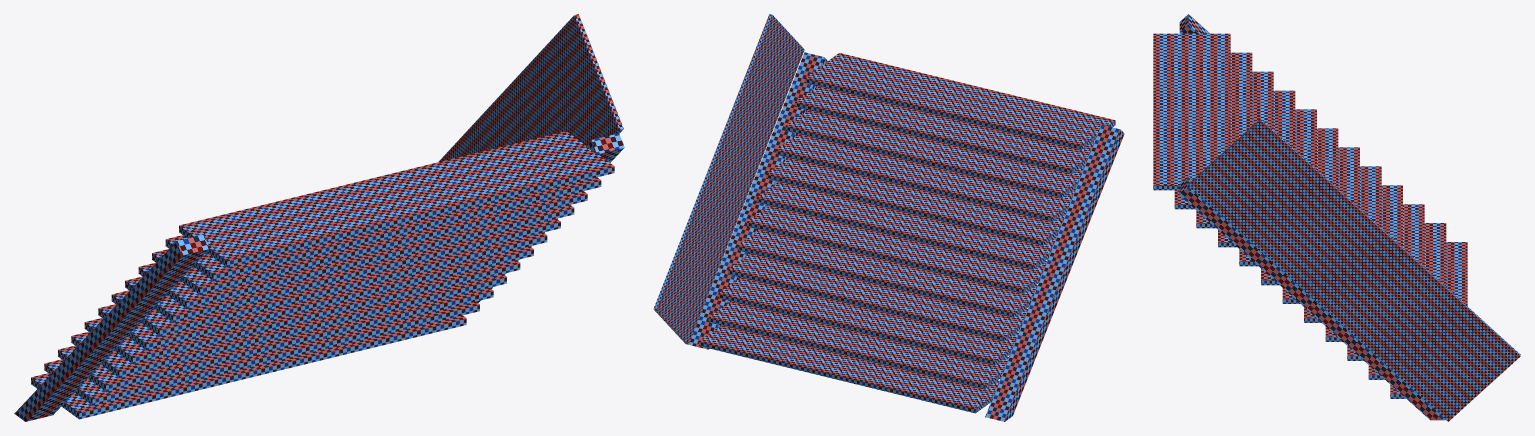
File: Half_stairs_Onerail_01.fbx
3 views of the same model, side by side, from view 1: azimuth 30°, elevation 25°; view 2: azimuth 150°, elevation 25°; view 3: azimuth 270°, elevation 25° (orthographic). The views are drawn at different scales.
Visible parts, largest first — view 1: Half_stairs_Onerail_01; view 2: Half_stairs_Onerail_01; view 3: Half_stairs_Onerail_01.
Boxes of the visible parts, <box> form: Half_stairs_Onerail_01: <box>14,14,624,421</box>; Half_stairs_Onerail_01: <box>653,14,1124,421</box>; Half_stairs_Onerail_01: <box>1153,14,1520,421</box>.
Bounding box in the file's own units: 404 × 325 × 359.
1 material, 1 textured.
